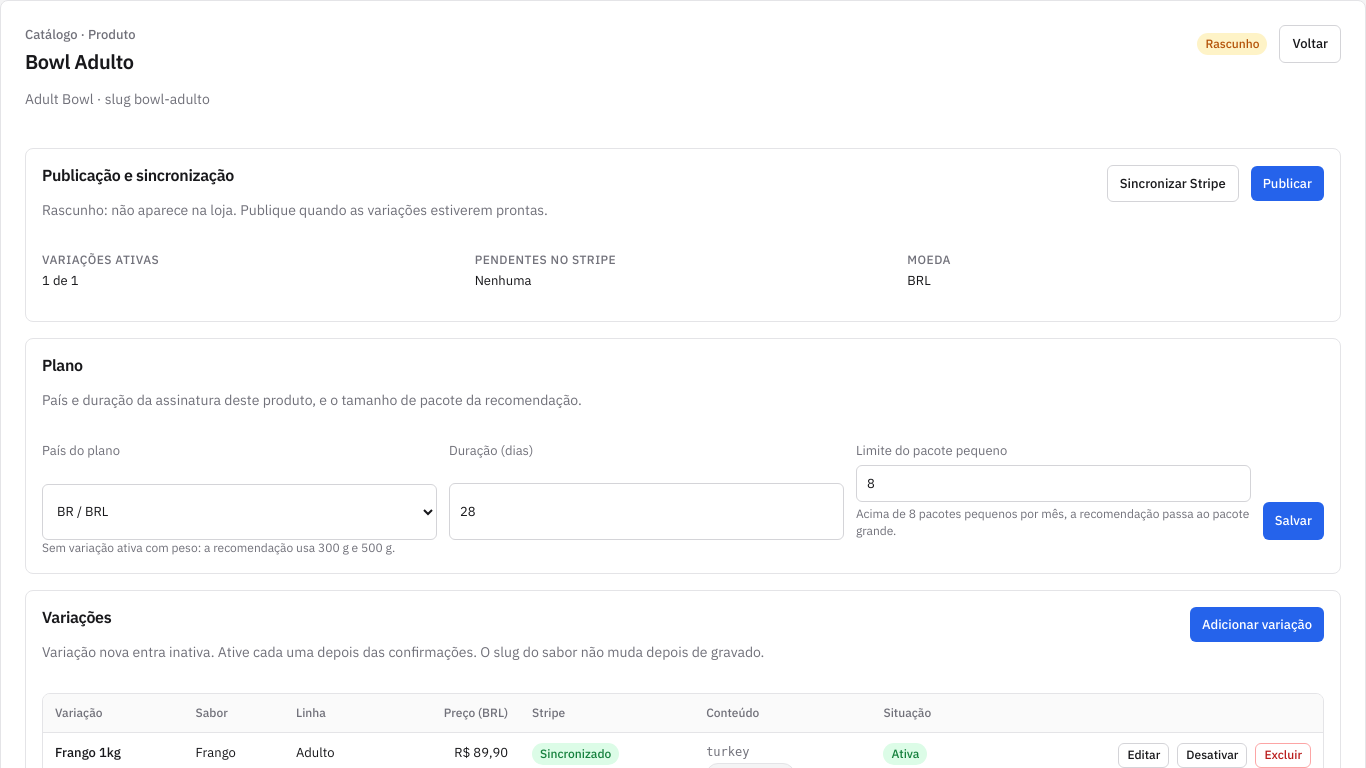
ProductDetailPage › activates and deactivates a variation through the activation route
Click the button with aria-label "Desativar variação Frango 1kg": (1212, 755) [1177, 743, 1247, 767]
(page scrolled)
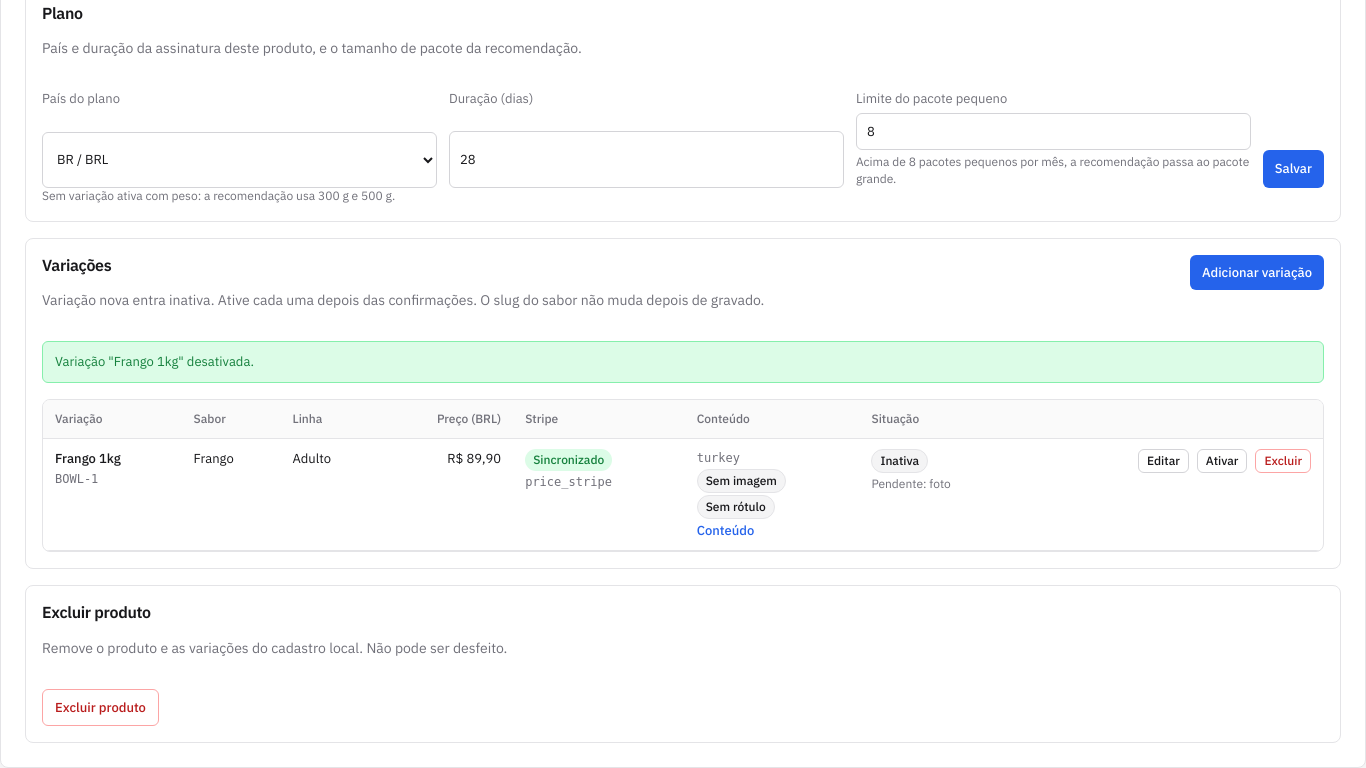
Now the text "Inativa" is shown, box [871, 449, 928, 473]
Click the button with aria-label "Ativar variação Frango 1kg": (1222, 461) [1197, 449, 1247, 473]
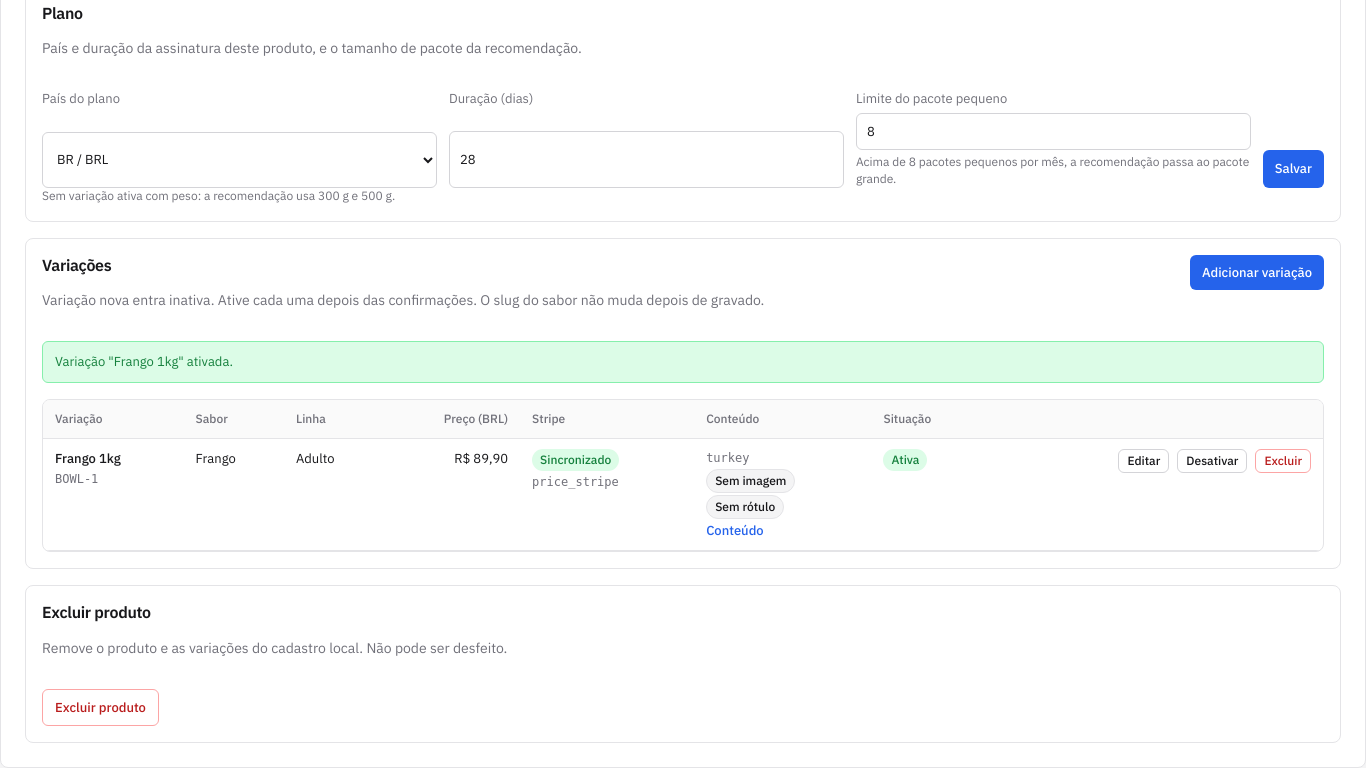
Now the text "Variação \"Frango 1kg\" ativada." is shown, box [42, 341, 1324, 383]
